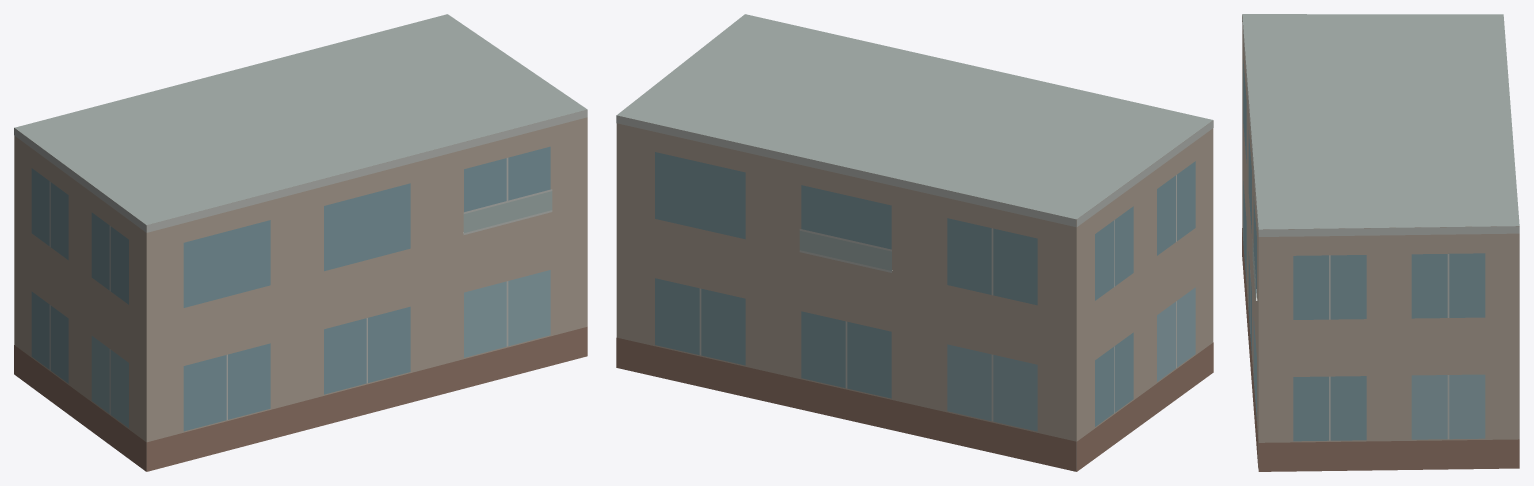
The model's file is survey-upis-32638071.glb.
3 renders of one model, left to right at view 1: azimuth 30°, elevation 25°; view 2: azimuth 150°, elevation 25°; view 3: azimuth 270°, elevation 25°, orthographic. The views are drawn at different scales.
Visible parts, largest first — view 1: survey-upis-32638071.tmp; view 2: survey-upis-32638071.tmp; view 3: survey-upis-32638071.tmp.
Boxes of the visible parts, bbox=[...] form: survey-upis-32638071.tmp: bbox=[14, 14, 587, 471]; survey-upis-32638071.tmp: bbox=[616, 14, 1213, 471]; survey-upis-32638071.tmp: bbox=[1242, 14, 1519, 471].
Bounding box in the file's own units: 14.88 × 7.8 × 8.1.
